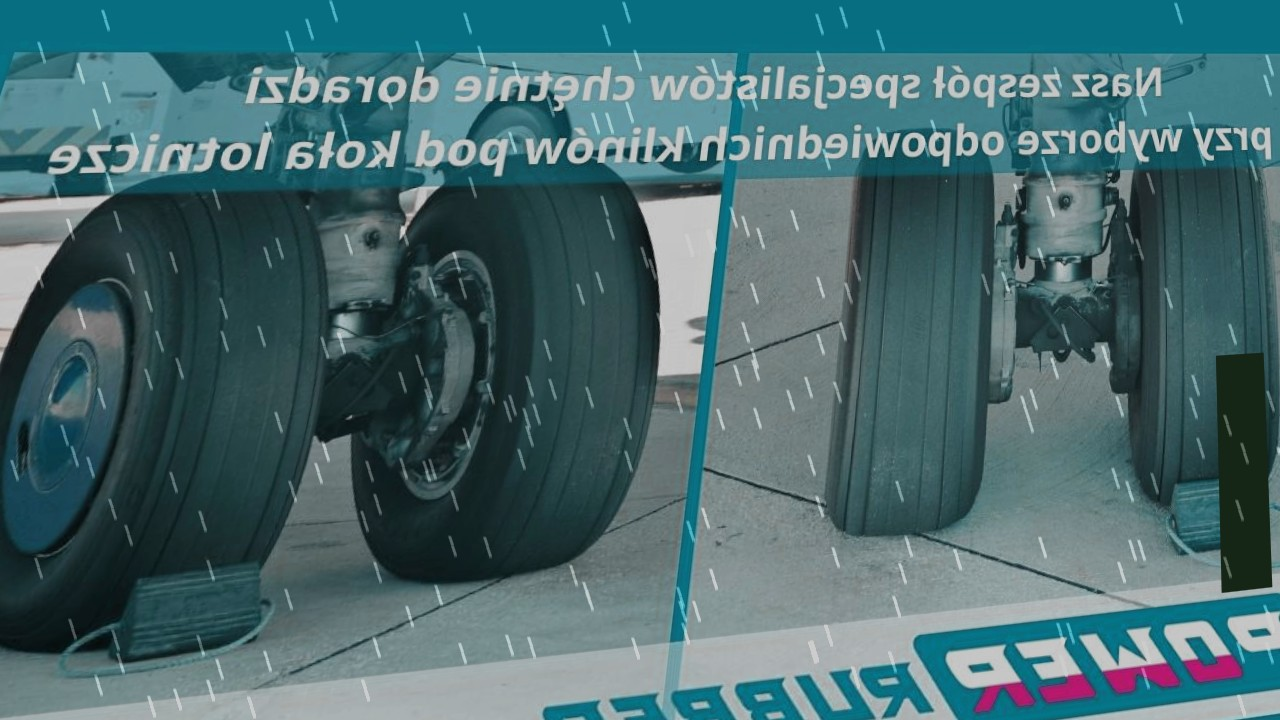chock: (99, 556, 278, 671), (1164, 466, 1271, 564)
wheel: (0, 181, 369, 667), (321, 166, 685, 596), (819, 131, 1003, 543), (1127, 124, 1280, 512), (453, 93, 581, 174)
